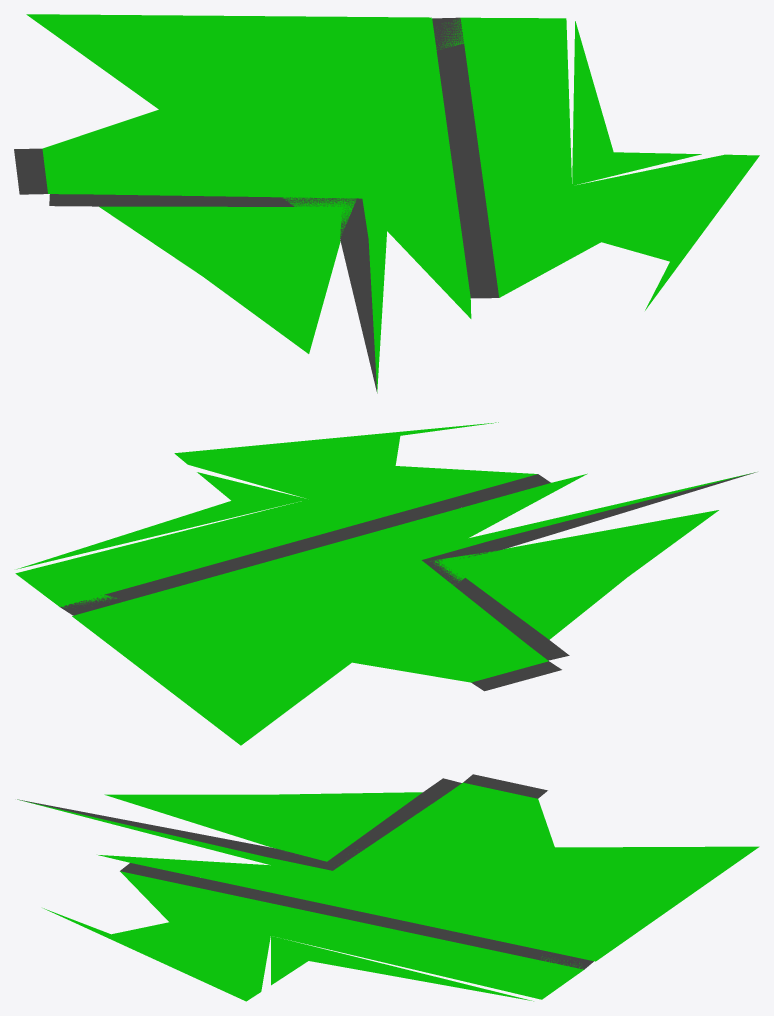
3 renders of one model, top to bottom at view 1: azimuth 30°, elevation 25°; view 2: azimuth 150°, elevation 25°; view 3: azimuth 270°, elevation 25°, orthographic. The views are drawn at different scales.
Bounding box in the file's own units: 96.66 × 0 × 134.
